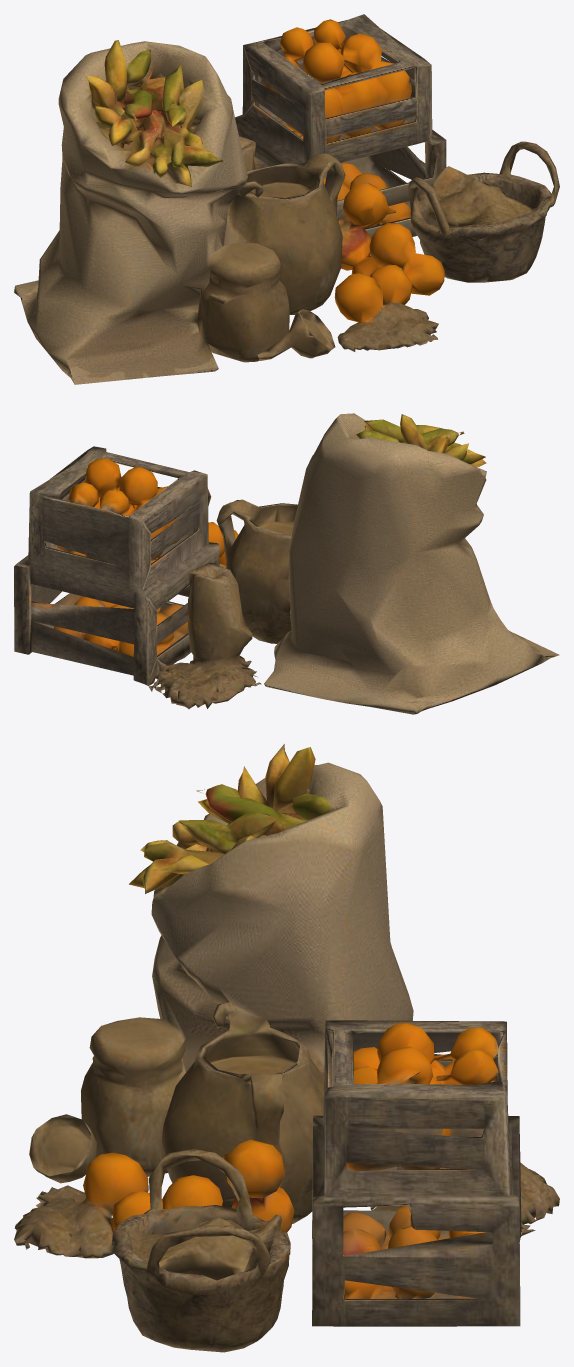
The model's file is spice_goods.glb.
3 renders of one model, top to bottom at view 1: azimuth 30°, elevation 25°; view 2: azimuth 150°, elevation 25°; view 3: azimuth 270°, elevation 25°, orthographic. The views are drawn at different scales.
Visible parts, largest first — view 1: Mesh_0; view 2: Mesh_0; view 3: Mesh_0.
Part boxes in pixels (box(x1,y1,x2,y2)): Mesh_0: box(14, 14, 559, 384); Mesh_0: box(14, 413, 559, 714); Mesh_0: box(14, 744, 559, 1352).
Bounding box in the file's own units: 1.89 × 1.03 × 1.36.
1 material, 1 textured.
